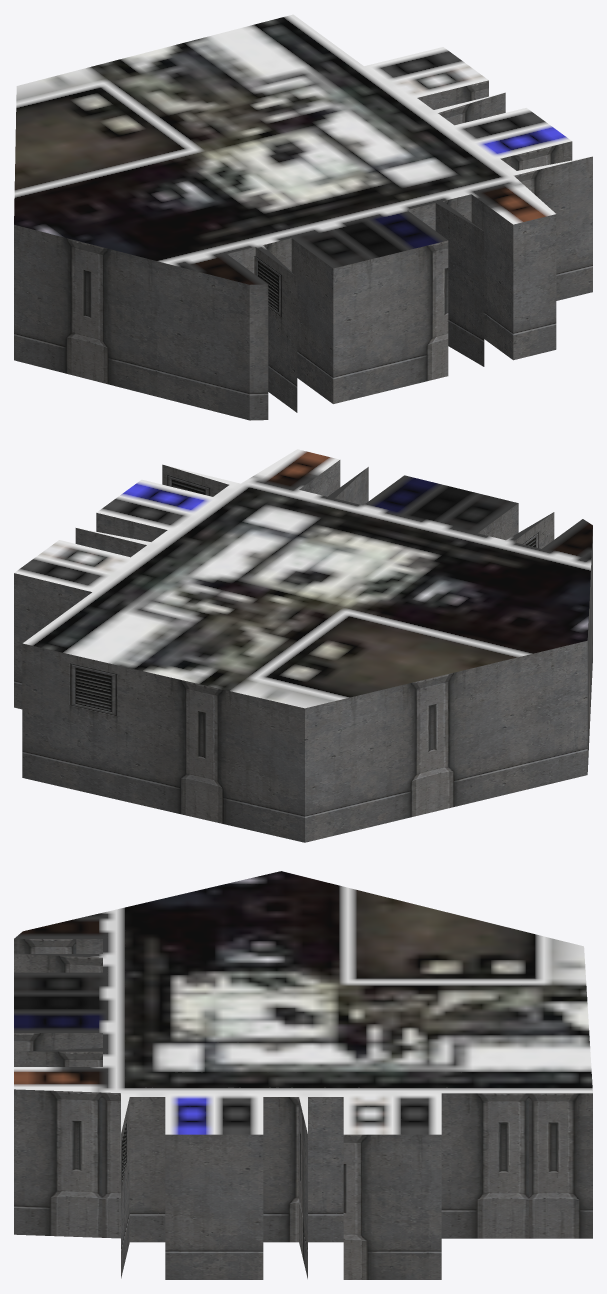
File: BuildingSystem-03-Advance-04-ReinforcedLow-E-098-04.glb
The picture shows the model from 3 angles, top to bottom: view 1: azimuth 30°, elevation 25°; view 2: azimuth 150°, elevation 25°; view 3: azimuth 270°, elevation 25°; orthographic projection. The views are drawn at different scales.
Parts seen in each view (by area): view 1: buildings/saxarba/SMV_Buildings/BuildingSystem-03-Advance-04; view 2: buildings/saxarba/SMV_Buildings/BuildingSystem-03-Advance-04; view 3: buildings/saxarba/SMV_Buildings/BuildingSystem-03-Advance-04.
Boxes of the visible parts, x1=… form: buildings/saxarba/SMV_Buildings/BuildingSystem-03-Advance-04: x1=14, y1=14, x2=592, y2=420; buildings/saxarba/SMV_Buildings/BuildingSystem-03-Advance-04: x1=14, y1=449, x2=592, y2=842; buildings/saxarba/SMV_Buildings/BuildingSystem-03-Advance-04: x1=14, y1=871, x2=592, y2=1279.
Bounding box in the file's own units: 70 × 18 × 65.
